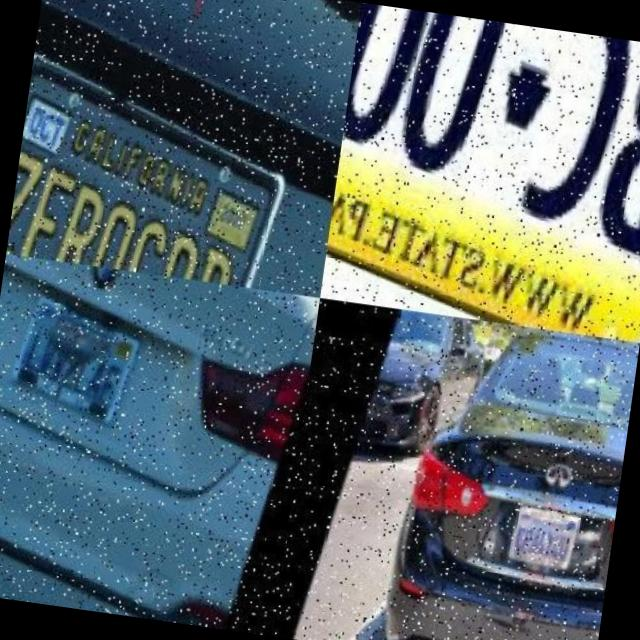LicensePlate: (321, 2, 640, 326), (7, 38, 308, 292), (2, 284, 144, 421), (504, 501, 576, 564)
